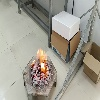fire: (36, 47, 48, 79), (31, 60, 35, 67)
